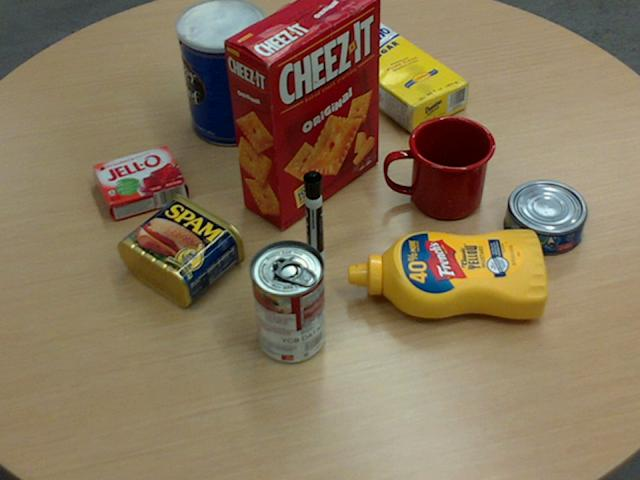cracker_box: (222, 0, 381, 229)
gelatin_box: (92, 144, 186, 219)
large_marker: (302, 171, 325, 265)
master_chef_can: (175, 0, 272, 146)
mug: (384, 114, 494, 219)
mustard_bottle: (347, 228, 547, 317)
potted_meat_can: (117, 192, 245, 305)
sugar_box: (325, 20, 469, 132)
tomato_soup_can: (248, 238, 325, 362)
tuna_fish_can: (503, 179, 586, 253)
